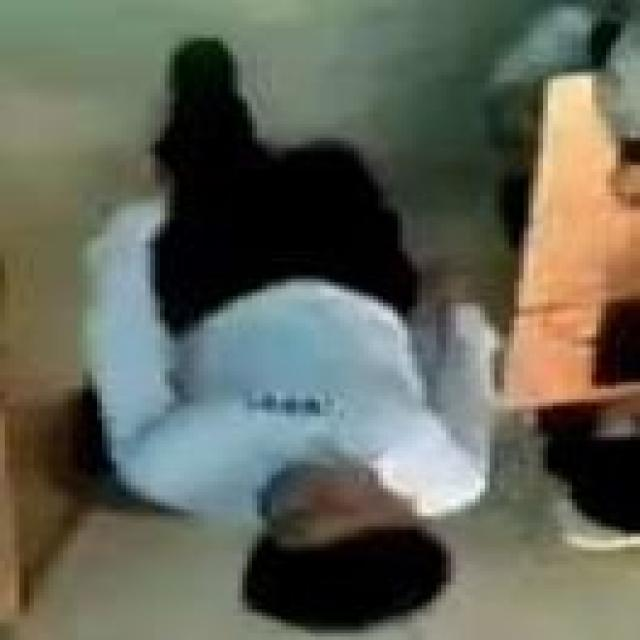work-tag: (244, 384, 344, 420)
